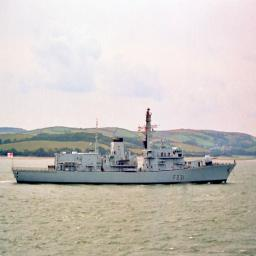Fragata: (11, 104, 239, 186)
